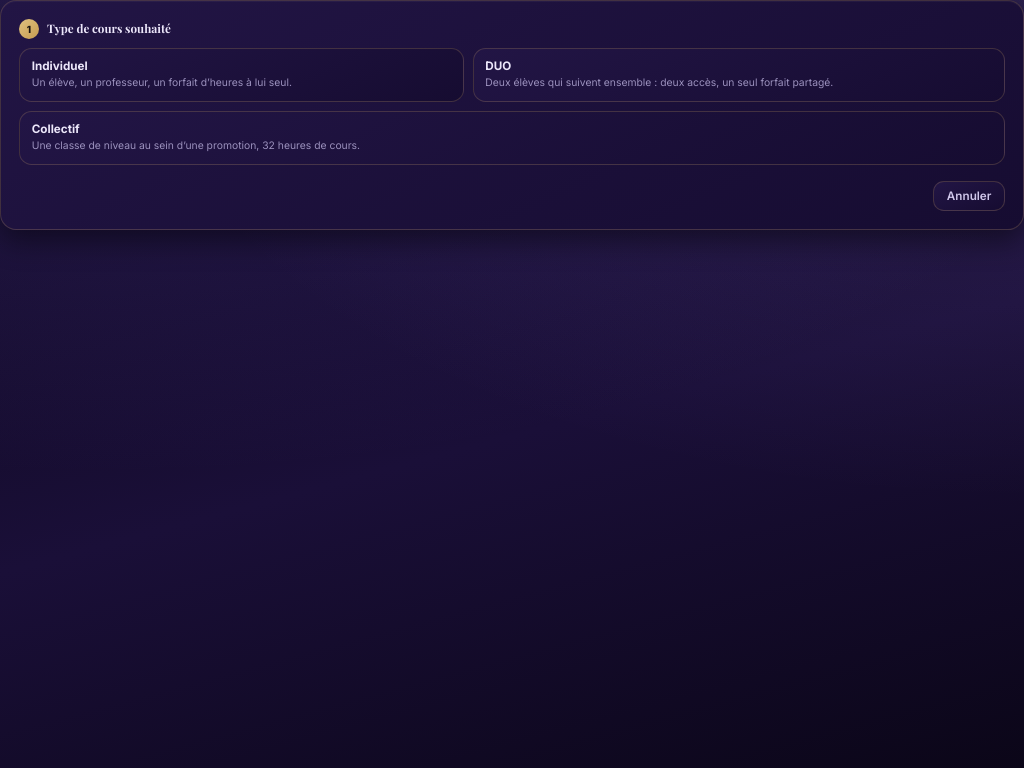
Test: AssistantNouvelEtudiant › demande la seconde personne en DUO, et rien d’autre que la vague et la classe en collectif
The width and height of the screenshot is (1024, 768).
Later steps or results of the test are not shown.
Step 1. Click the text "DUO" → (498, 66), box [485, 59, 511, 73]
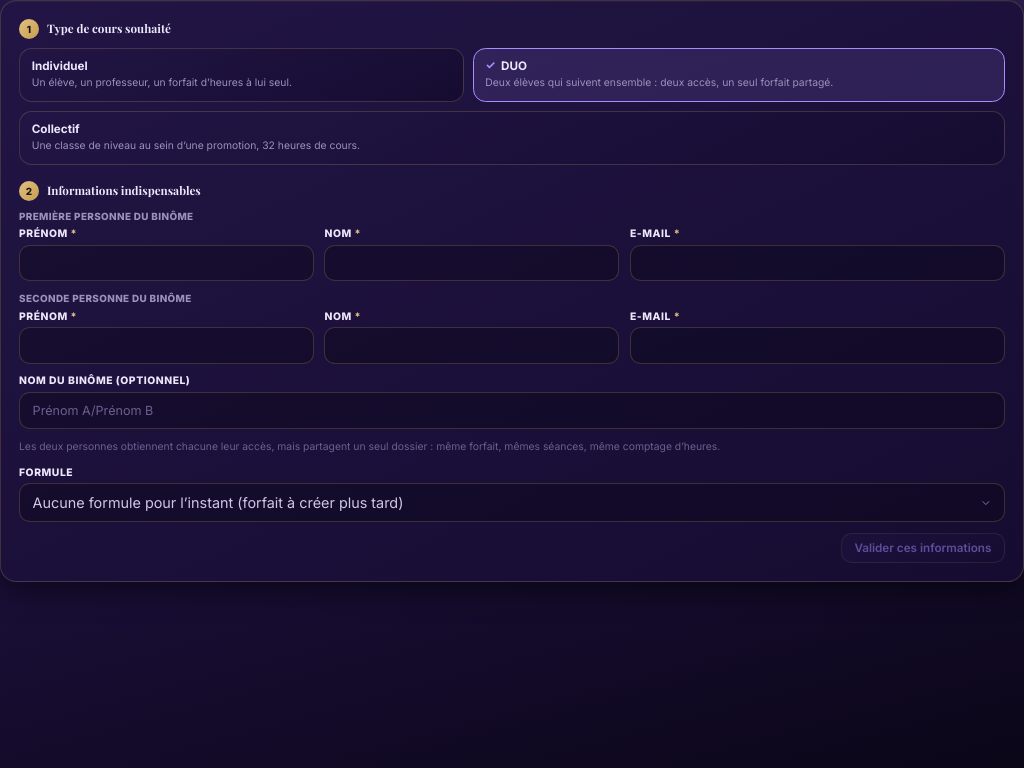
Expected: the text "Seconde personne du binôme" is shown, [19, 292, 192, 304]
Expected: the text "Nom du binôme (optionnel)" is shown, [19, 374, 190, 386]
